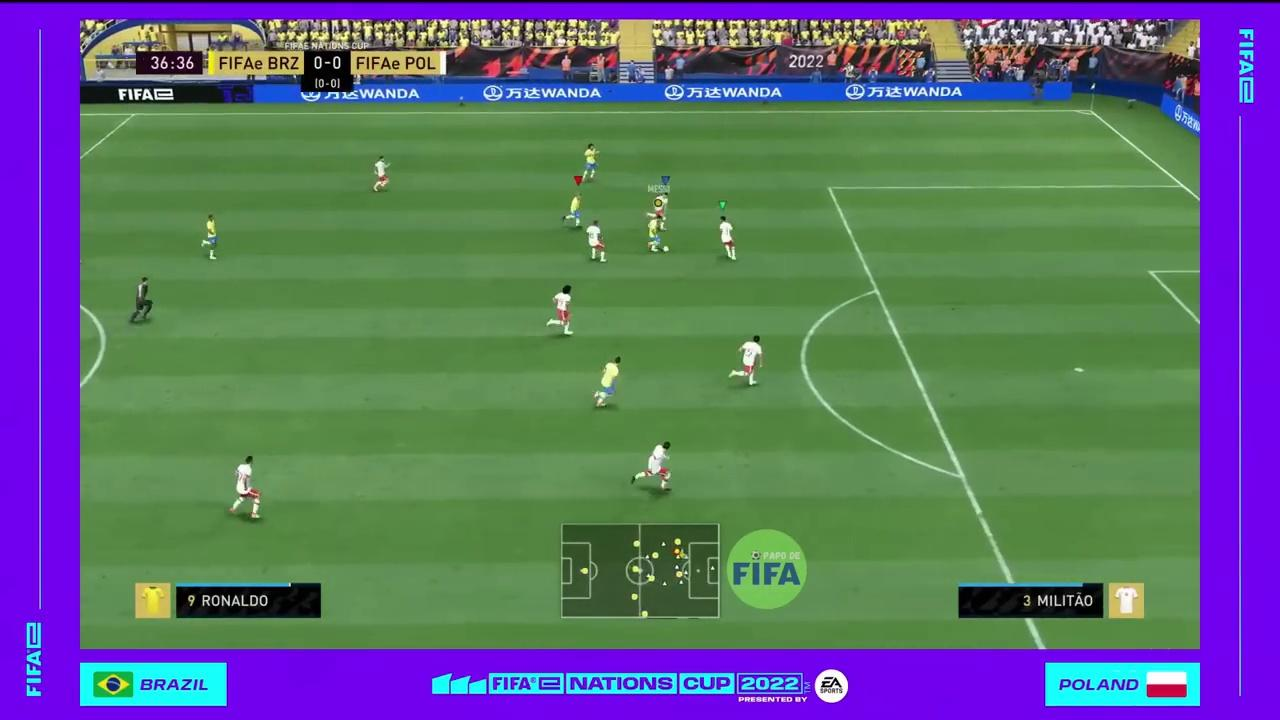scoreboard: (208, 53, 447, 77)
timestamp: (135, 50, 206, 76)
